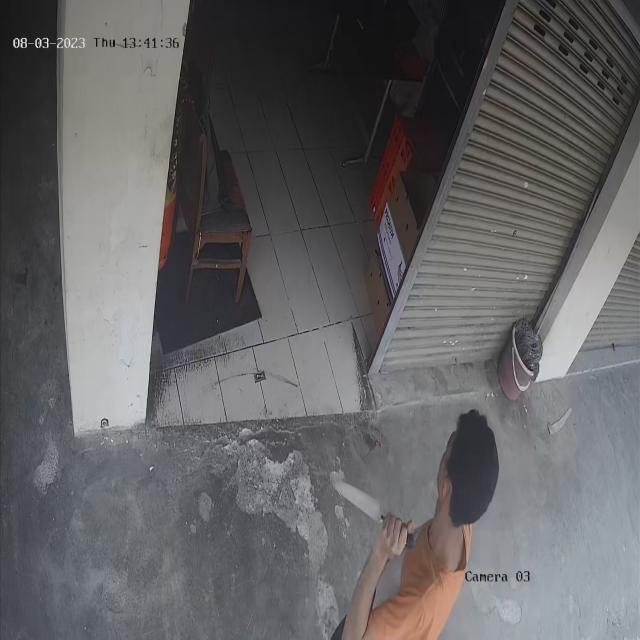Knife: (321, 468, 417, 554)
